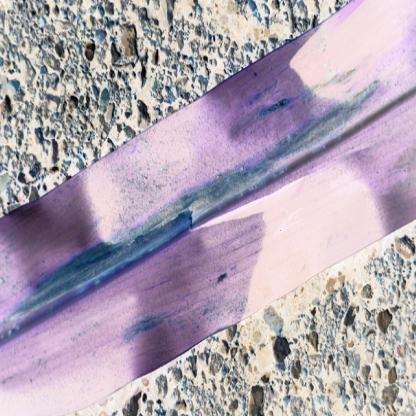corn leaf blight: (1, 9, 409, 385)
